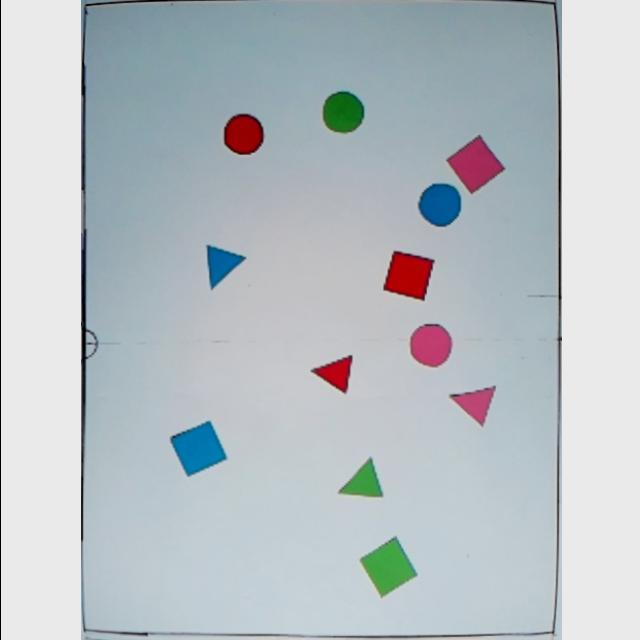blueCircle: (416, 182, 460, 230)
blueSquare: (166, 420, 228, 478)
blueTriangle: (202, 242, 245, 292)
greenCircle: (320, 90, 364, 134)
greenSquare: (357, 534, 418, 600)
greenTriangle: (335, 454, 383, 502)
pinkCircle: (406, 322, 449, 370)
pinkSquare: (443, 134, 503, 194)
pinkTriangle: (447, 382, 498, 430)
redCircle: (220, 112, 262, 156)
redSquare: (380, 248, 434, 304)
redTriangle: (307, 353, 355, 397)
